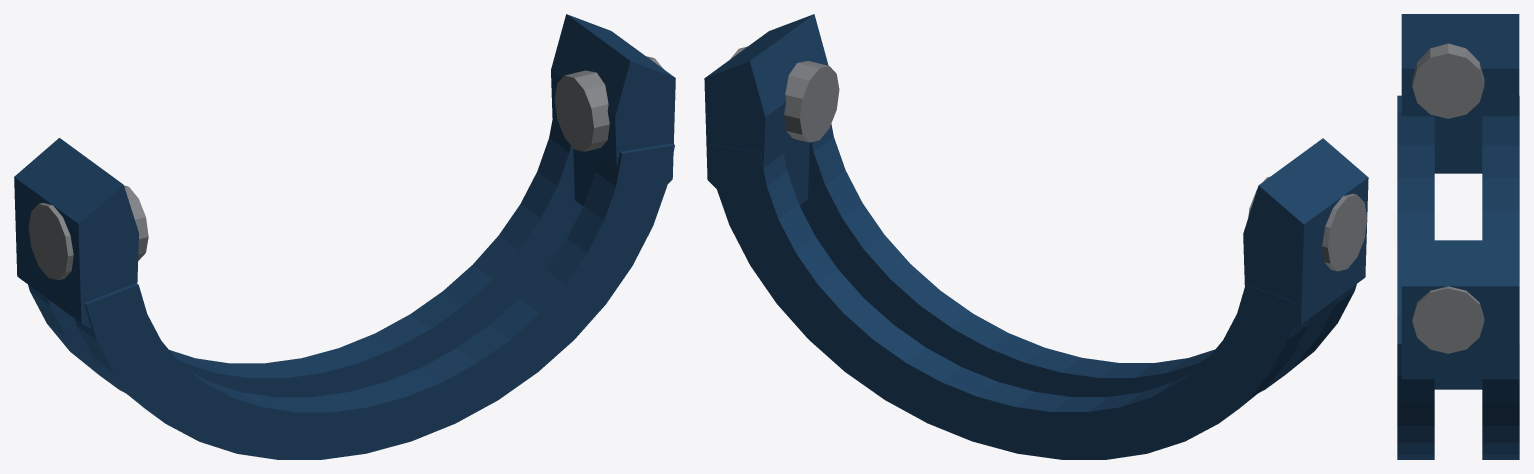
The model's file is BlueSwing.glb.
3 views of the same model, side by side, from view 1: azimuth 30°, elevation 25°; view 2: azimuth 150°, elevation 25°; view 3: azimuth 270°, elevation 25° (orthographic). The views are drawn at different scales.
Visible parts, largest first — view 1: BlueSwing; view 2: BlueSwing; view 3: BlueSwing.
Part boxes in pixels (x1,y1,x2,y2): BlueSwing: (14, 14, 675, 459); BlueSwing: (704, 14, 1368, 459); BlueSwing: (1397, 14, 1519, 459).
Bounding box in the file's own units: 1.58 × 0.811 × 0.302.
